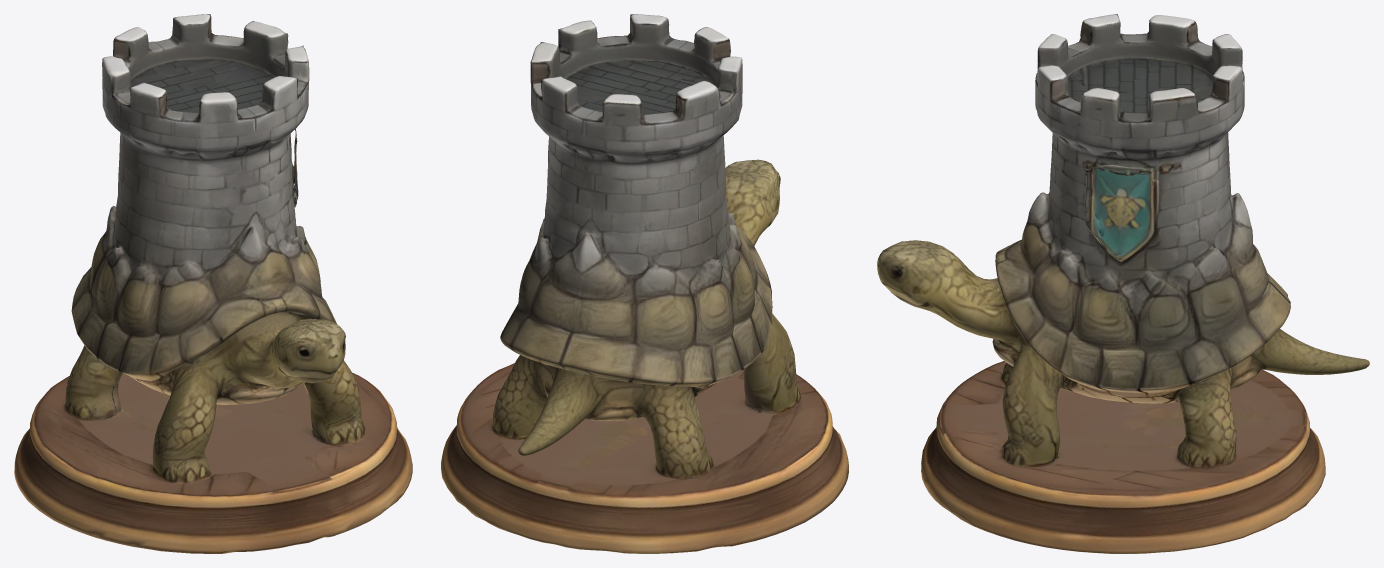
File: rodin-rook-ally.glb
3 views of the same model, side by side, from view 1: azimuth 30°, elevation 25°; view 2: azimuth 150°, elevation 25°; view 3: azimuth 270°, elevation 25° (orthographic). The views are drawn at different scales.
Visible parts, largest first — view 1: model; view 2: model; view 3: model.
Part boxes in pixels (left/top/right/bottom): model: left=14, top=14, right=412, bottom=553; model: left=441, top=14, right=848, bottom=553; model: left=877, top=14, right=1369, bottom=553.
Bounding box in the file's own units: 1.56 × 1.75 × 1.9.
1 material, 1 textured.
